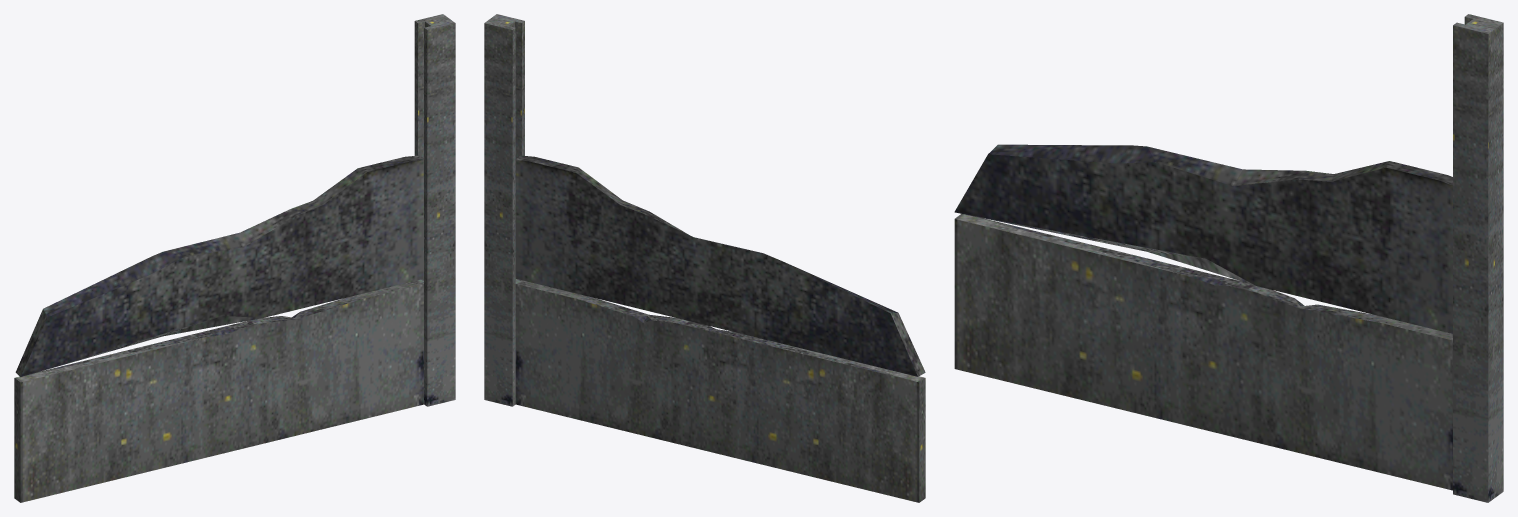
File: ConcreteSlabFence_Panel_Broken01_Model.fbx
3 views of the same model, side by side, from view 1: azimuth 30°, elevation 25°; view 2: azimuth 150°, elevation 25°; view 3: azimuth 330°, elevation 25° (orthographic). The views are drawn at different scales.
Parts seen in each view (by area): view 1: Body; view 2: Body; view 3: Body.
Boxes of the visible parts, left/top/right/bottom form: Body: left=14, top=14, right=455, bottom=502; Body: left=484, top=14, right=925, bottom=502; Body: left=954, top=14, right=1503, bottom=502.
Bounding box in the file's own units: 300 × 250 × 15.
